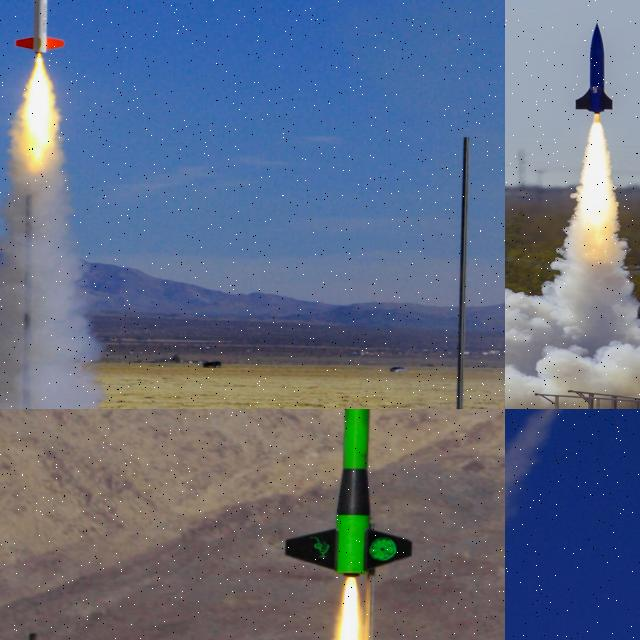Rocket: (283, 409, 415, 578), (575, 22, 615, 115), (14, 0, 64, 56)
